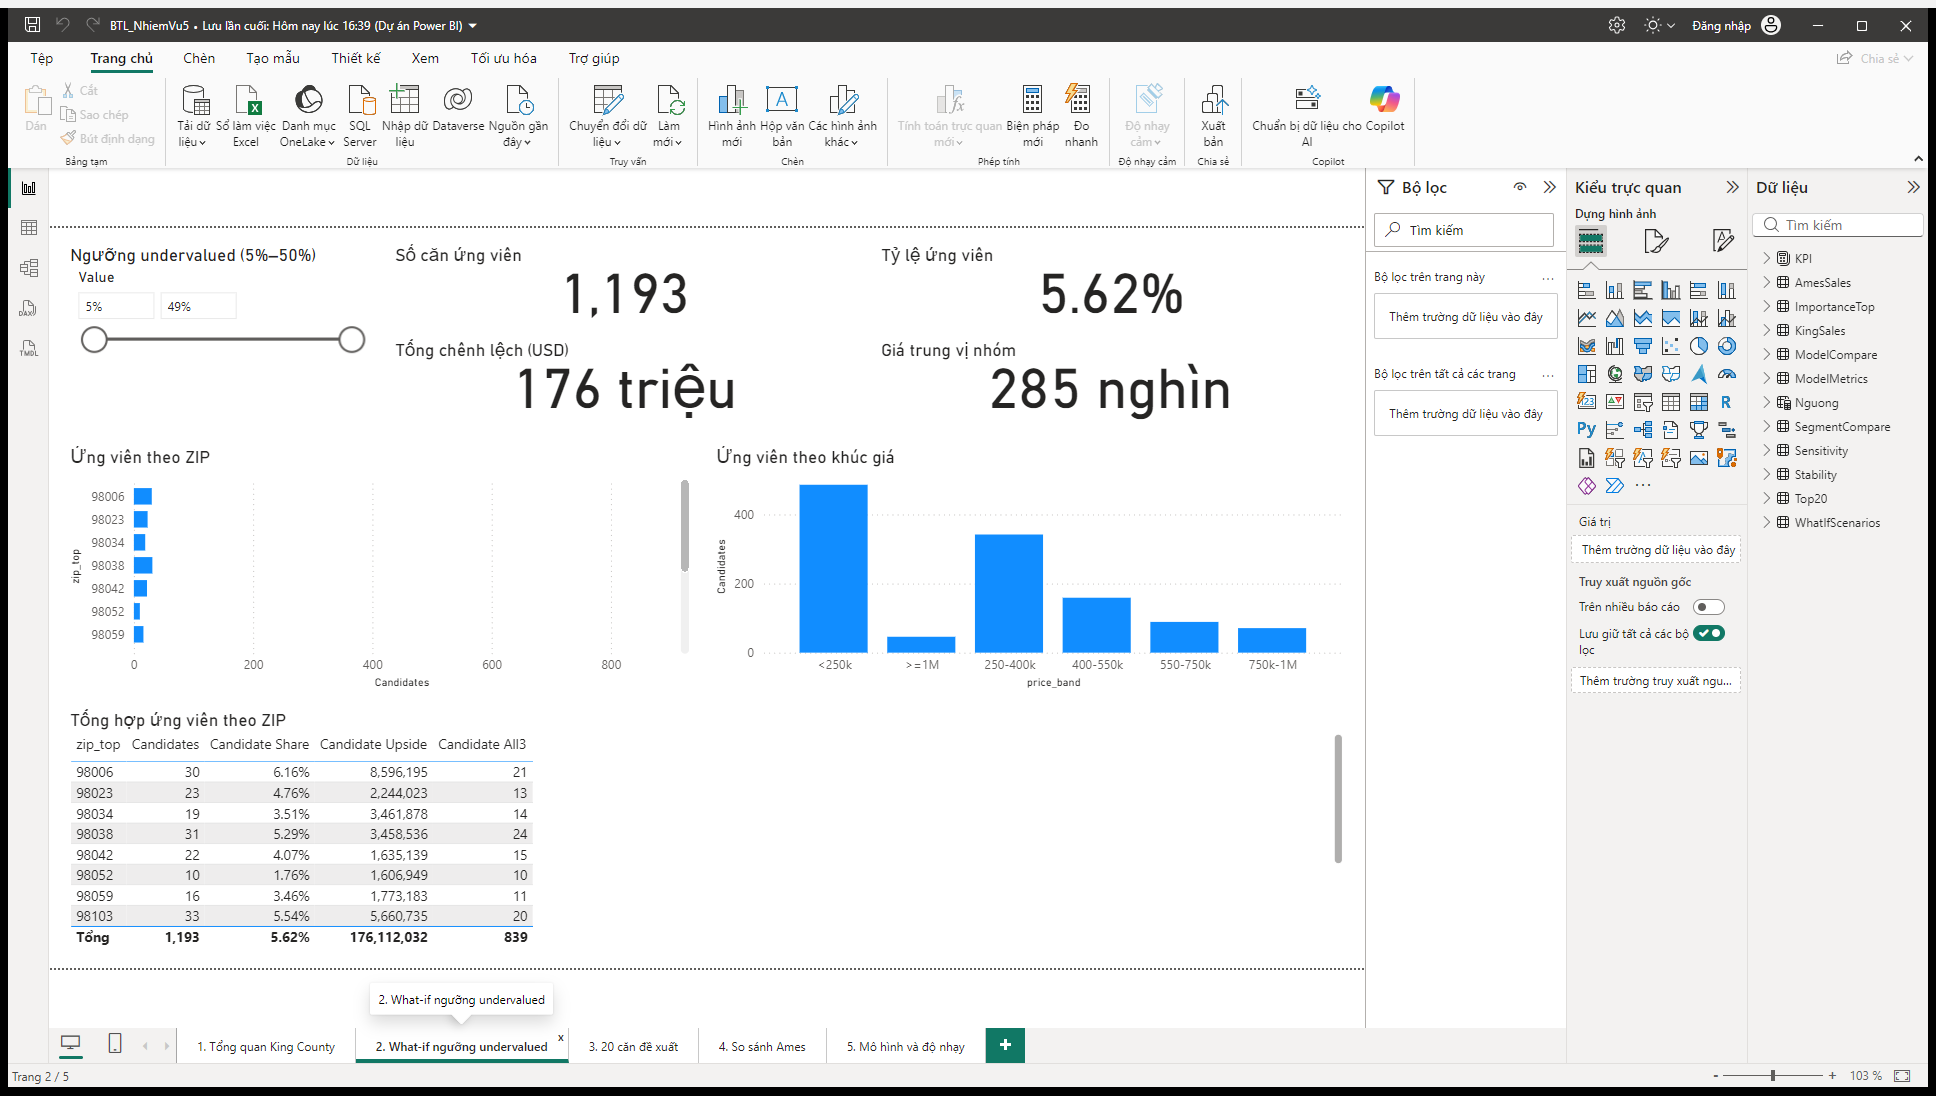

Layout of this report page (visuals, bound fields, positions):
{"tool":"powerbi","page":{"name":"2. What-if ngưỡng undervalued","canvas":[1280,720],"ordinal":1},"visuals":[{"type":"slicer","title":"Ngưỡng undervalued","fields":{"Values":["Nguong.Value"]},"box":[16,16,300,150],"z":1},{"type":"card","title":"Số căn ứng viên","fields":{"Values":["KPI.Candidates Text"]},"box":[332,16,456,84],"z":1},{"type":"card","title":"Tỷ lệ ứng viên","fields":{"Values":["KPI.Tỷ lệ ứng viên"]},"box":[804,16,456,84],"z":1},{"type":"card","title":"Tổng chênh lệch (USD)","fields":{"Values":["KPI.CandidateUpside Text"]},"box":[332,108,456,84],"z":1},{"type":"card","title":"Giá trung vị nhóm","fields":{"Values":["KPI.CandidateMedian Text"]},"box":[804,108,456,84],"z":1},{"type":"card","title":"Ngưỡng đang áp dụng","fields":{"Values":["KPI.Ngưỡng (%)"]},"box":[16,174,300,92],"z":1},{"type":"barChart","title":"Ứng viên theo ZIP","fields":{"Category":["KingSales.ZIP"],"Y":["KPI.Số ứng viên"]},"box":[16,276,612,210],"z":1},{"type":"clusteredColumnChart","title":"Ứng viên theo khúc giá","fields":{"Category":["KingSales.Khúc giá"],"Y":["KPI.Số ứng viên"]},"box":[644,276,620,210],"z":1},{"type":"tableEx","title":"Tổng hợp ứng viên theo ZIP","fields":{"Values":["KingSales.Mã ZIP","KPI.Số ứng viên","KPI.Tỷ lệ ứng viên","KPI.Chênh lệch ứng viên (USD)","KPI.Đồng thuận 3 mô hình"]},"box":[16,496,1248,208],"z":1}]}

Visuals, with their boxes on the page's 1280x720 design canvas (x1, y1, x2, y2). These are canvas units, not pixel positions in the 1936x1096 screenshot, which may show the page scaled, cropped or inside an application window:
"Ngưỡng undervalued" slicer: select_region(16, 16, 316, 166)
"Số căn ứng viên" card: select_region(332, 16, 788, 100)
"Tỷ lệ ứng viên" card: select_region(804, 16, 1260, 100)
"Tổng chênh lệch (USD)" card: select_region(332, 108, 788, 192)
"Giá trung vị nhóm" card: select_region(804, 108, 1260, 192)
"Ngưỡng đang áp dụng" card: select_region(16, 174, 316, 266)
"Ứng viên theo ZIP" barChart: select_region(16, 276, 628, 486)
"Ứng viên theo khúc giá" clusteredColumnChart: select_region(644, 276, 1264, 486)
"Tổng hợp ứng viên theo ZIP" tableEx: select_region(16, 496, 1264, 704)
